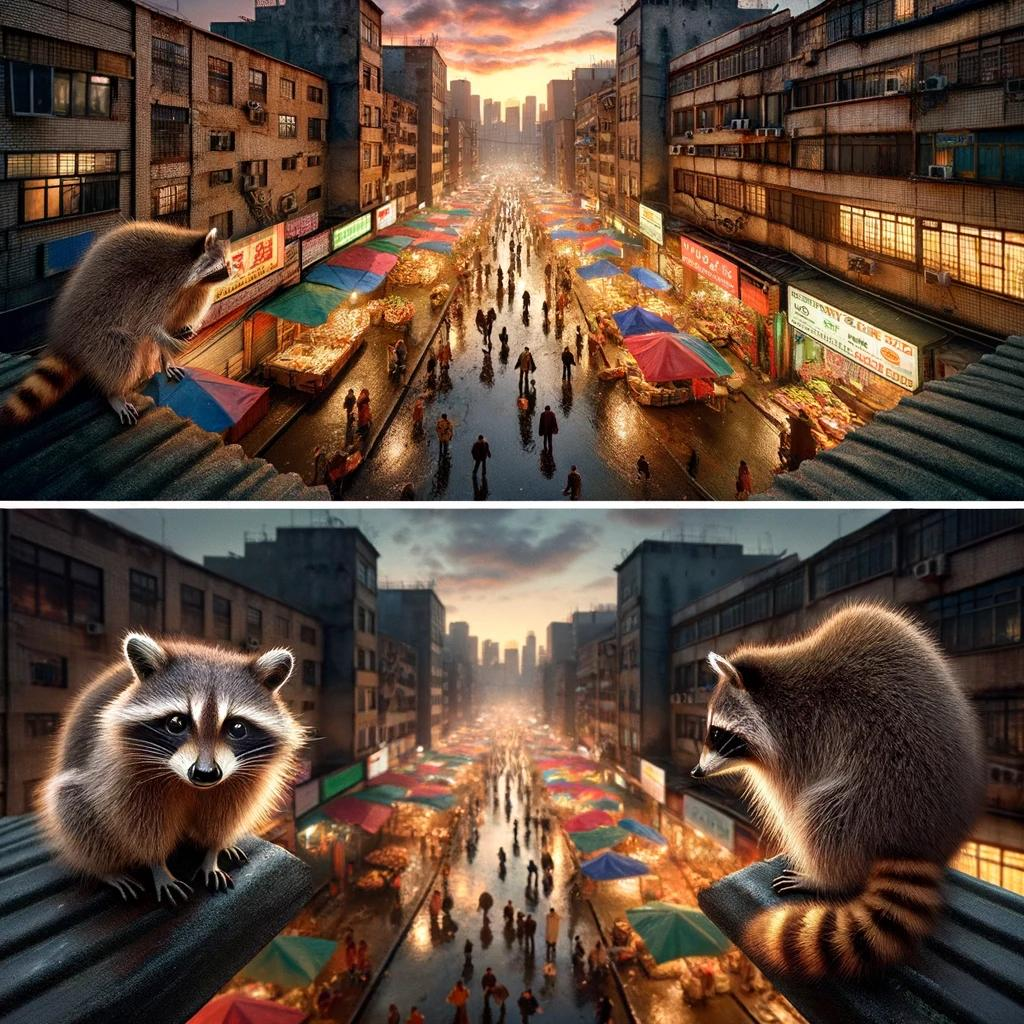raccoon: (682, 593, 1002, 992), (27, 613, 320, 913), (0, 210, 242, 437)
